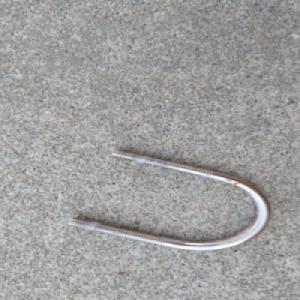ClampPart: (65, 147, 273, 252)
